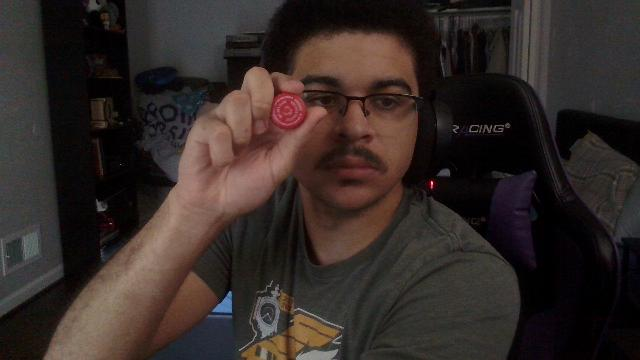cap: (272, 93, 306, 129)
